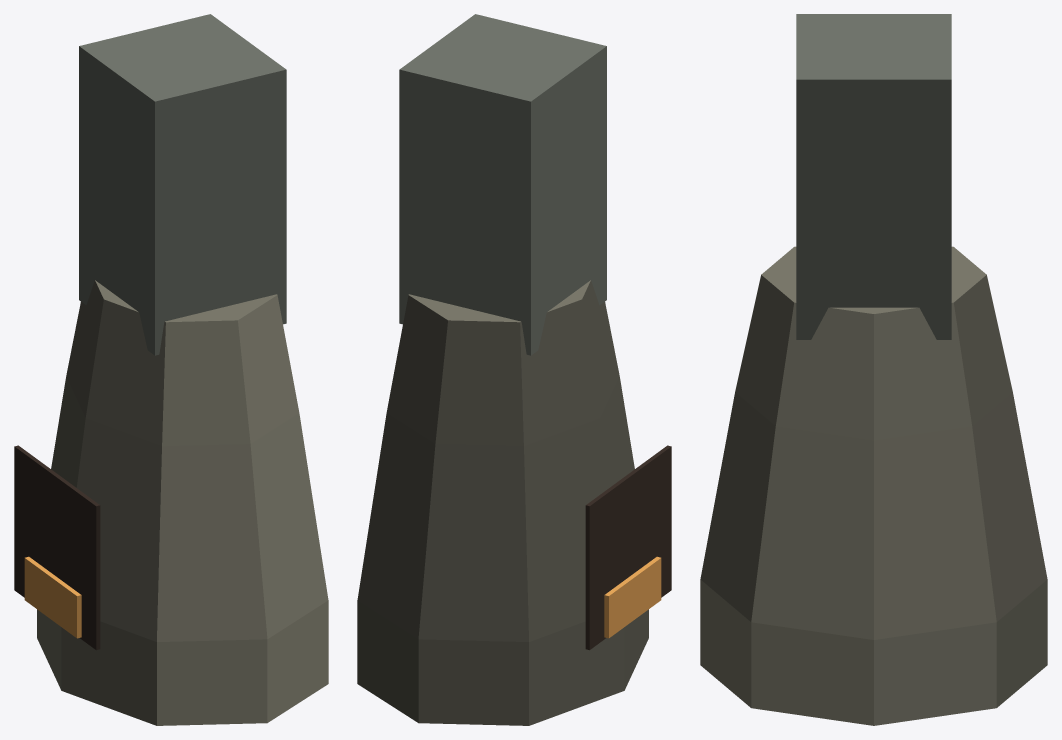
3 views of the same model, side by side, from view 1: azimuth 30°, elevation 25°; view 2: azimuth 150°, elevation 25°; view 3: azimuth 270°, elevation 25° (orthographic). The views are drawn at different scales.
Visible parts, largest first — view 1: 7e5261f05b715504c2f015a05ebc895f33cb15616e60f055b807ea2f60f4; view 2: 7e5261f05b715504c2f015a05ebc895f33cb15616e60f055b807ea2f60f4; view 3: 7e5261f05b715504c2f015a05ebc895f33cb15616e60f055b807ea2f60f4.
Boxes of the visible parts, left/top/right/bottom form: 7e5261f05b715504c2f015a05ebc895f33cb15616e60f055b807ea2f60f4: left=14, top=14, right=328, bottom=725; 7e5261f05b715504c2f015a05ebc895f33cb15616e60f055b807ea2f60f4: left=357, top=14, right=671, bottom=725; 7e5261f05b715504c2f015a05ebc895f33cb15616e60f055b807ea2f60f4: left=700, top=14, right=1047, bottom=725.
Size of the model in its own units: 1.25 by 2.85 by 1.45.
3 materials, 1 textured.
